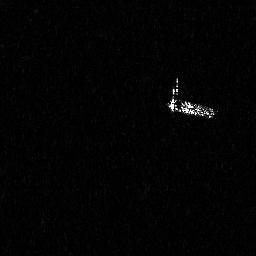ship: (164, 78, 217, 121)
